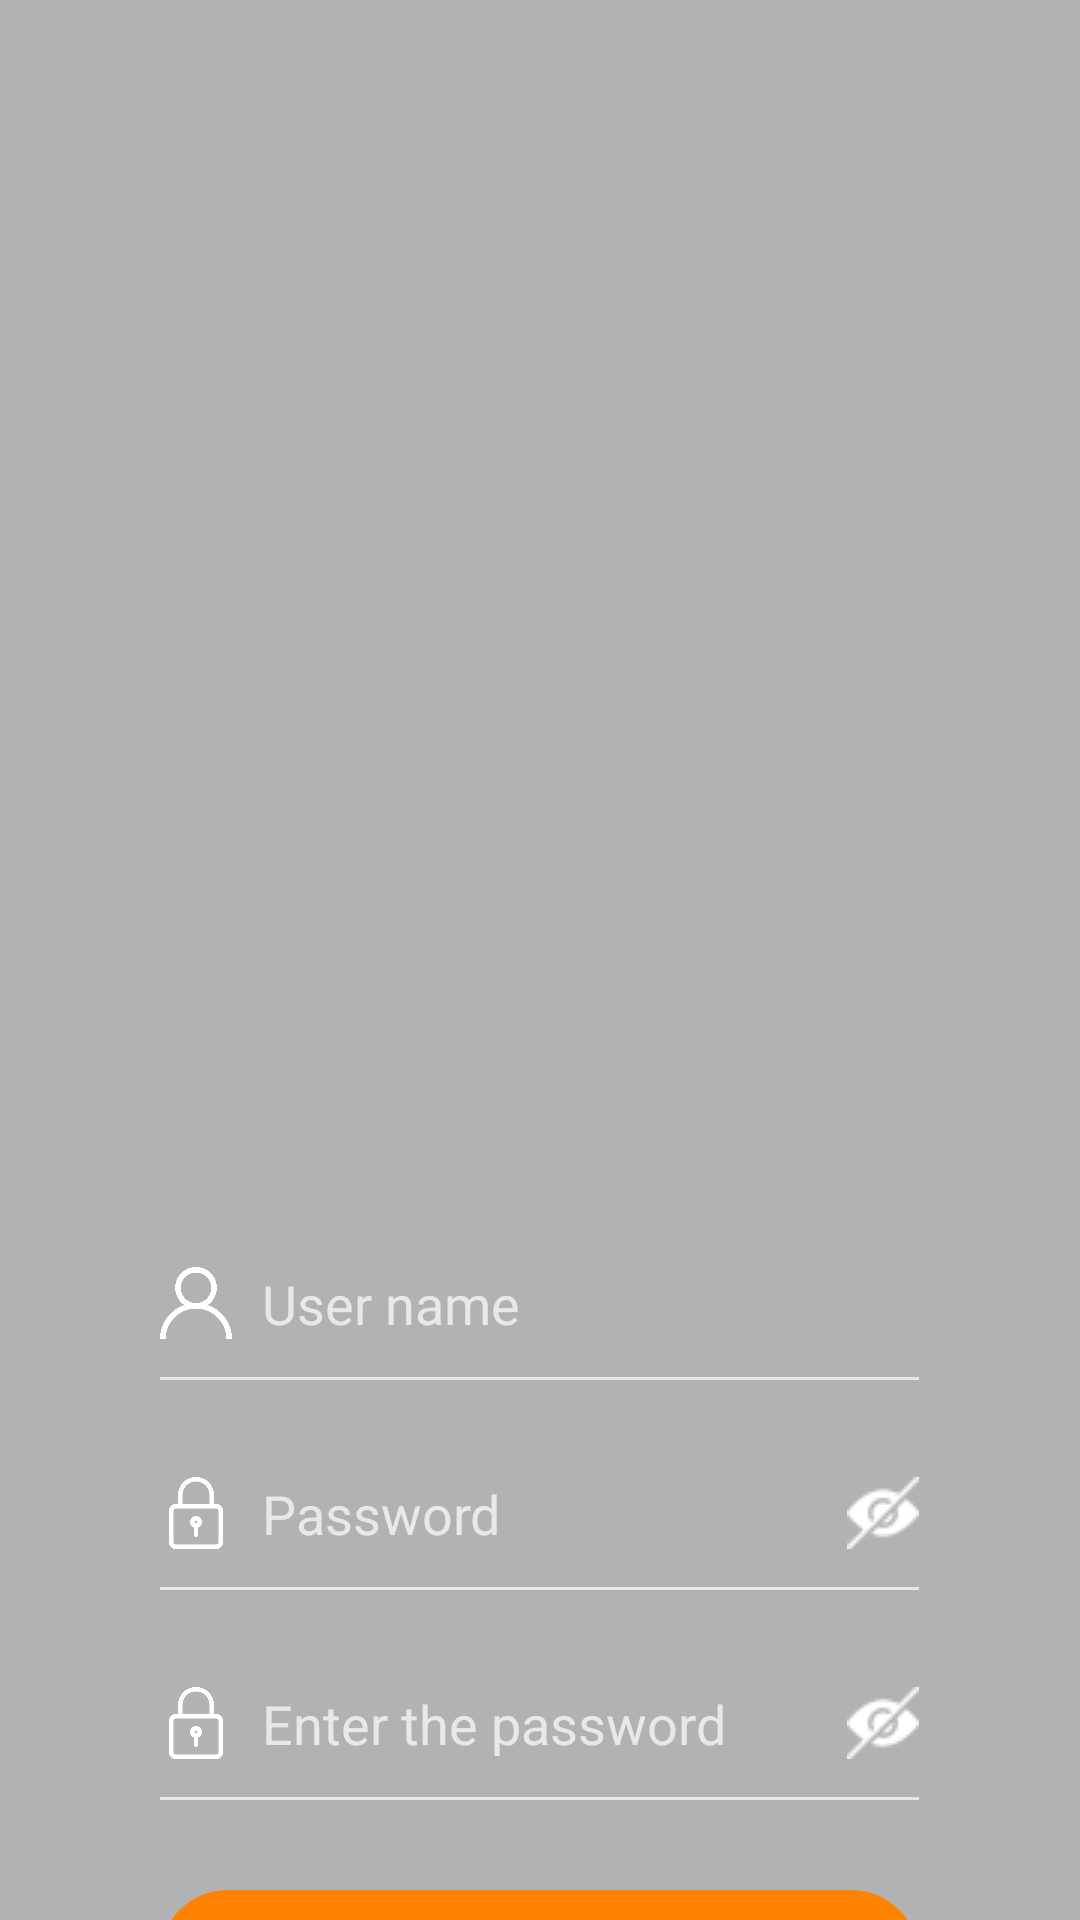

Screen size 1080 x 1920. Icon name, then its box in pixels as [left=x1, top=y1, right=x2, bottom=y2]:
invisible: [left=847, top=1477, right=919, bottom=1549], [left=847, top=1687, right=919, bottom=1759]
lock: [left=169, top=1477, right=223, bottom=1549], [left=169, top=1687, right=223, bottom=1759]
